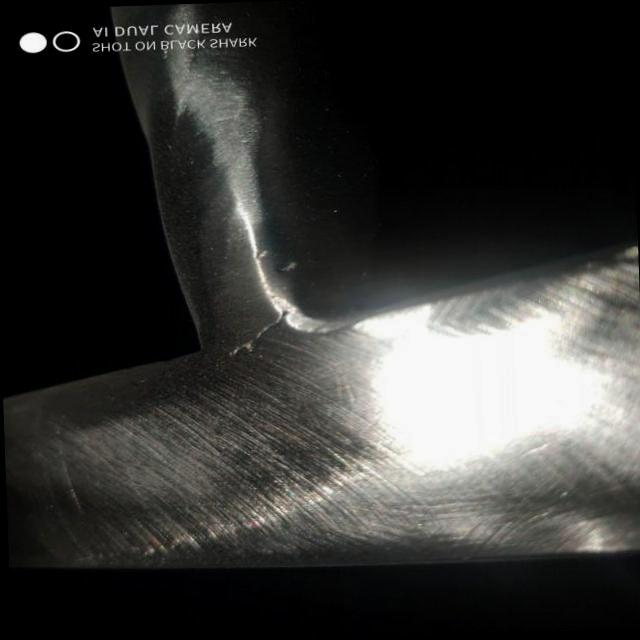defect: (222, 304, 297, 364)
